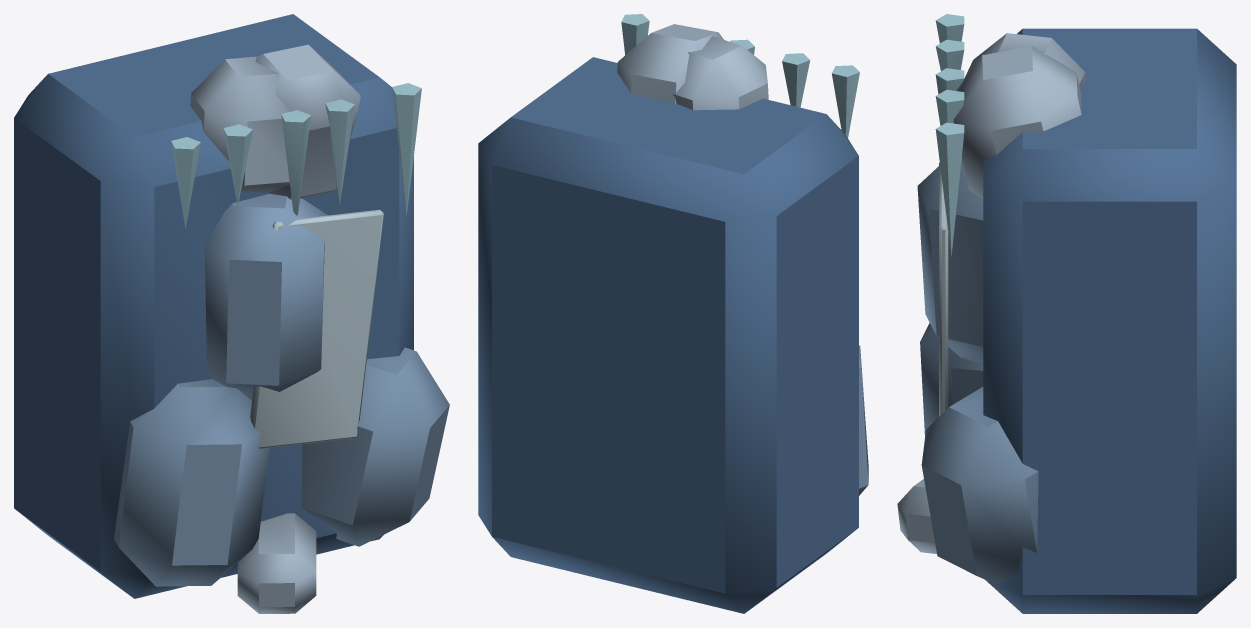
Rendered from cv_eis_wall_1.glb.
3 views of the same model, side by side, from view 1: azimuth 30°, elevation 25°; view 2: azimuth 150°, elevation 25°; view 3: azimuth 270°, elevation 25° (orthographic). The views are drawn at different scales.
Parts seen in each view (by area): view 1: body; view 2: body; view 3: body.
Boxes of the visible parts, <box> form: body: <box>14,14,449,613</box>; body: <box>478,14,868,613</box>; body: <box>897,14,1236,613</box>.
Bounding box in the file's own units: 2.38 × 3.61 × 2.14.
